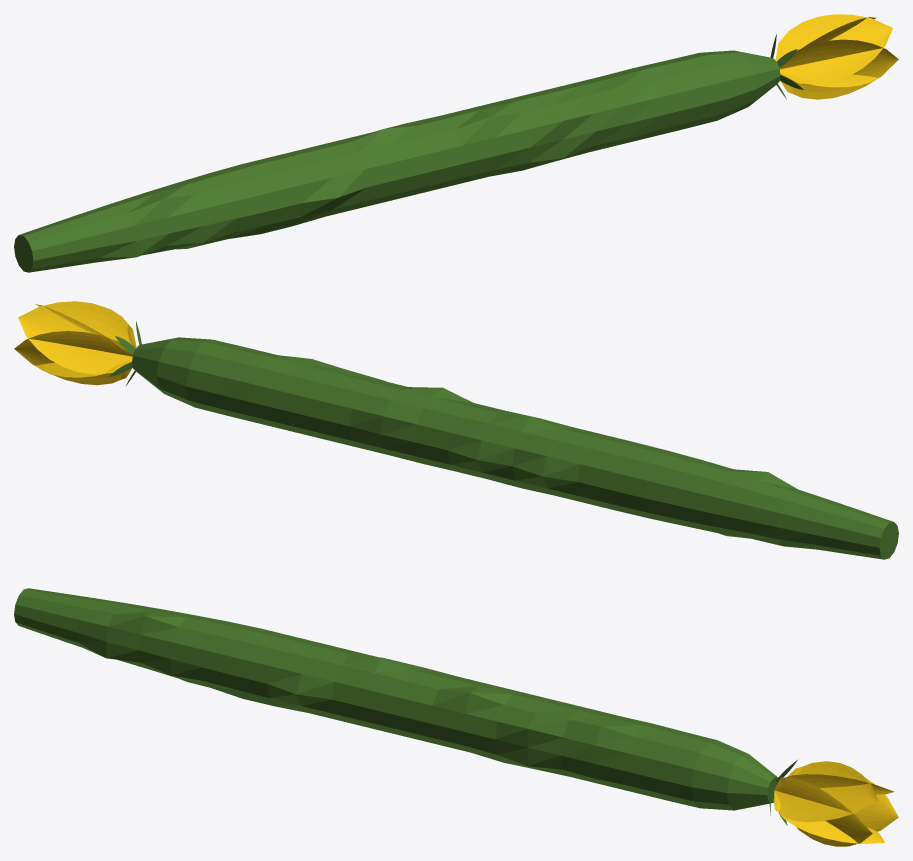
The model's file is flower_closed_03.obj.
3 views of the same model, one above another, from view 1: azimuth 30°, elevation 25°; view 2: azimuth 150°, elevation 25°; view 3: azimuth 330°, elevation 25° (orthographic).
Size of the model in its own units: 0.9551 by 0.0793 by 0.0808.
Materials: 1 (1 with a texture image).
